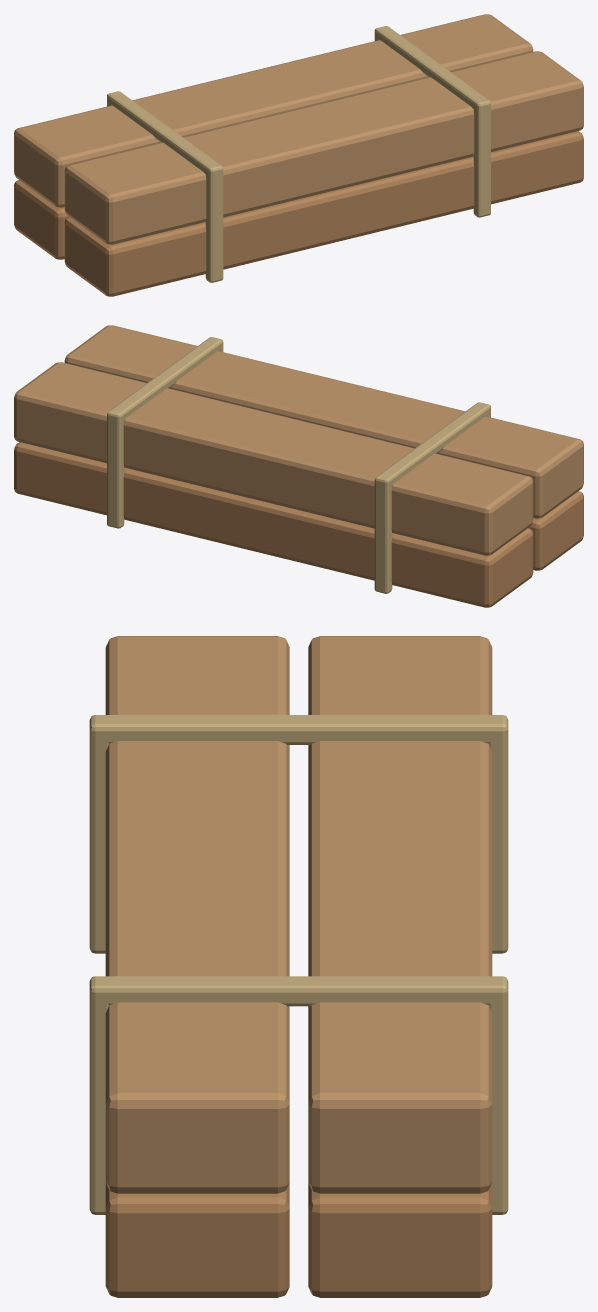
The model's file is goods_beams_bundle.glb.
3 views of the same model, one above another, from view 1: azimuth 30°, elevation 25°; view 2: azimuth 150°, elevation 25°; view 3: azimuth 270°, elevation 25° (orthographic). The views are drawn at different scales.
Visible parts, largest first — view 1: goods_beams_bundle; view 2: goods_beams_bundle; view 3: goods_beams_bundle.
Part boxes in pixels (left/top/right/bottom): goods_beams_bundle: left=14, top=14, right=583, bottom=296; goods_beams_bundle: left=14, top=325, right=583, bottom=607; goods_beams_bundle: left=89, top=636, right=508, bottom=1297.
Size of the model in its own units: 1.2 by 0.275 by 0.455.
